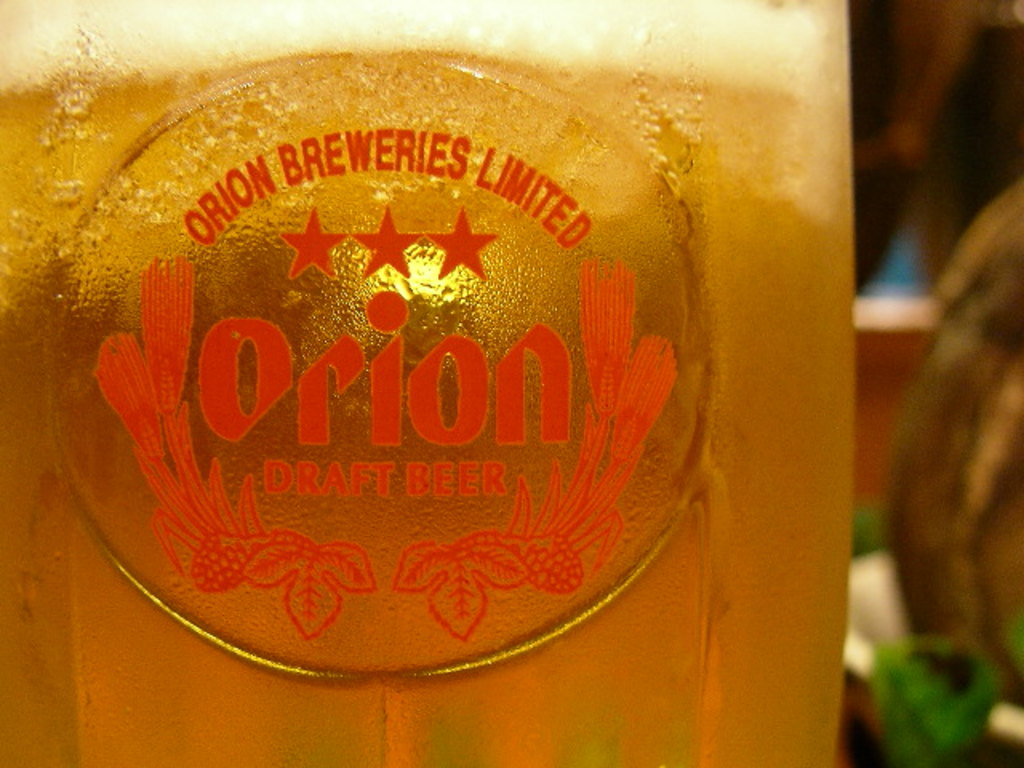Beer: (0, 0, 865, 766)
